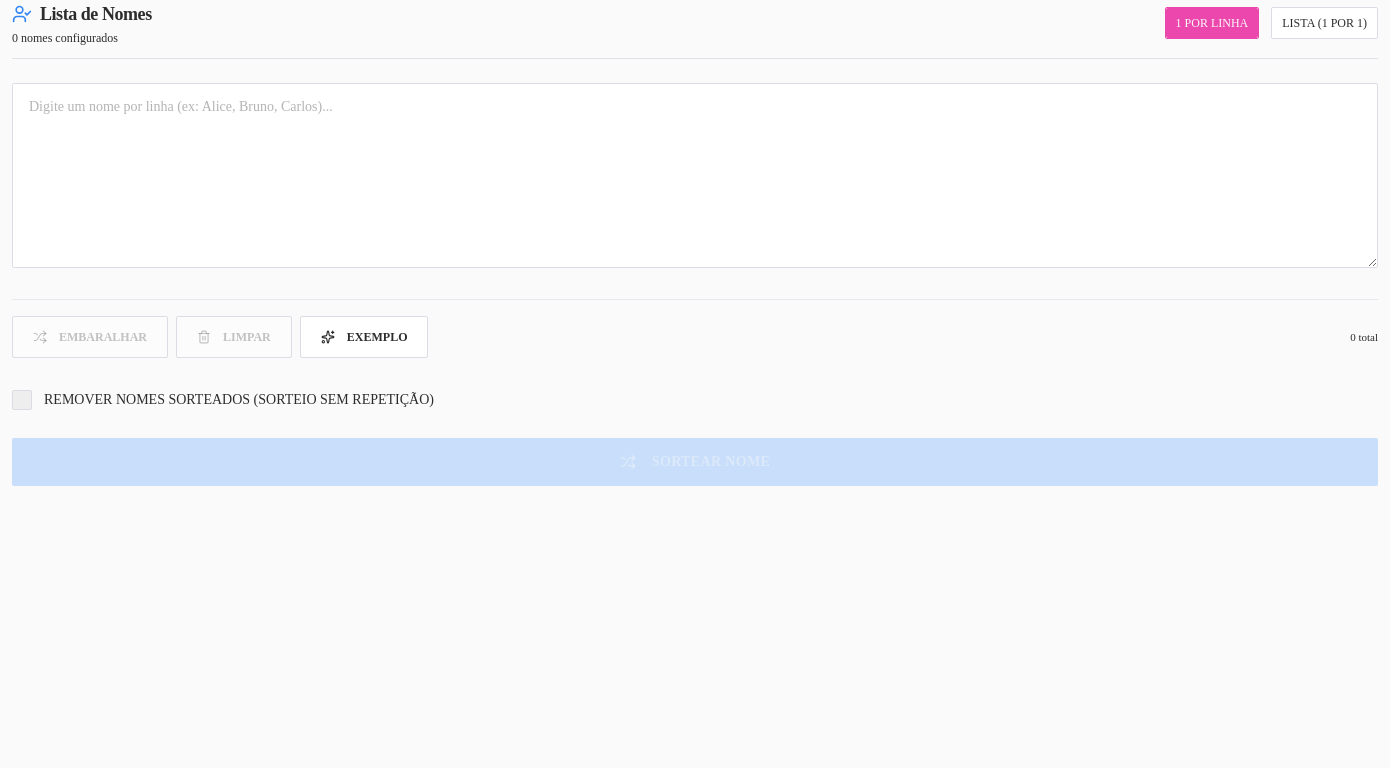
AppNamePicker Component › loads sample names and allows picking a winner
This screenshot has width=1390, height=768.
Note: Click sample names
Click the button "Exemplo": x=364, y=337 [300,316,428,358]
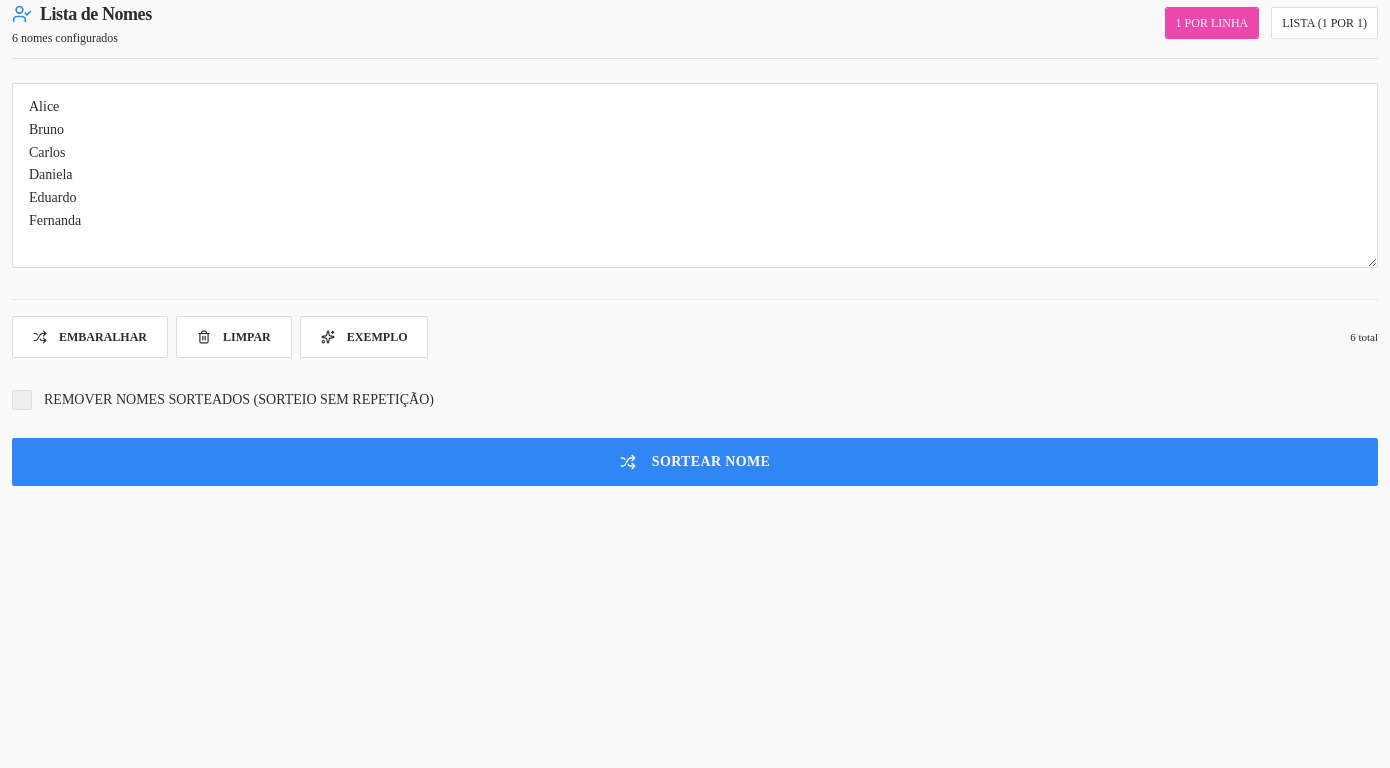
expect the text "6 nomes configurados" is shown: met, box [12,31,118,45]
Note: Click pick
Click the button "Sortear Nome": x=695, y=462 [12,438,1378,486]
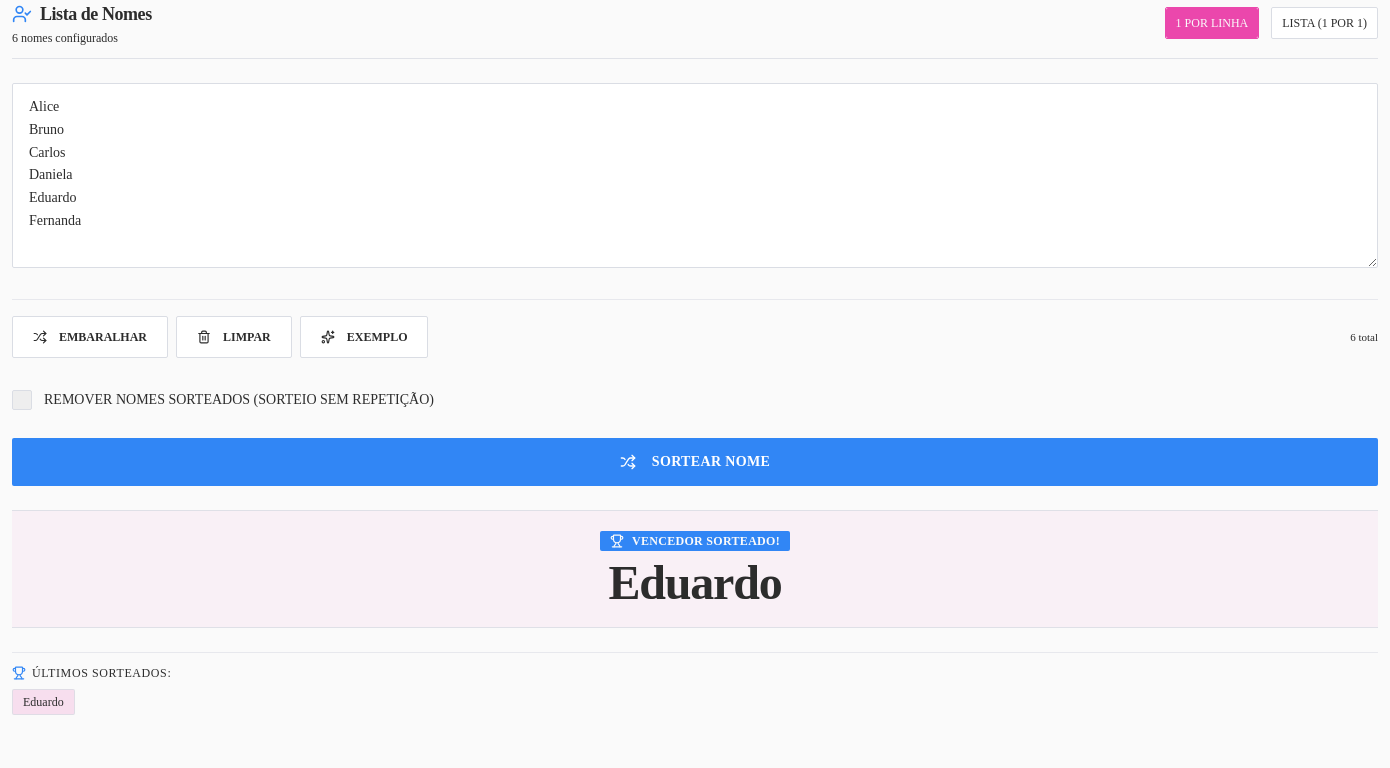
expect the text "Vencedor Sorteado!" is shown: met, box [632,533,780,549]
